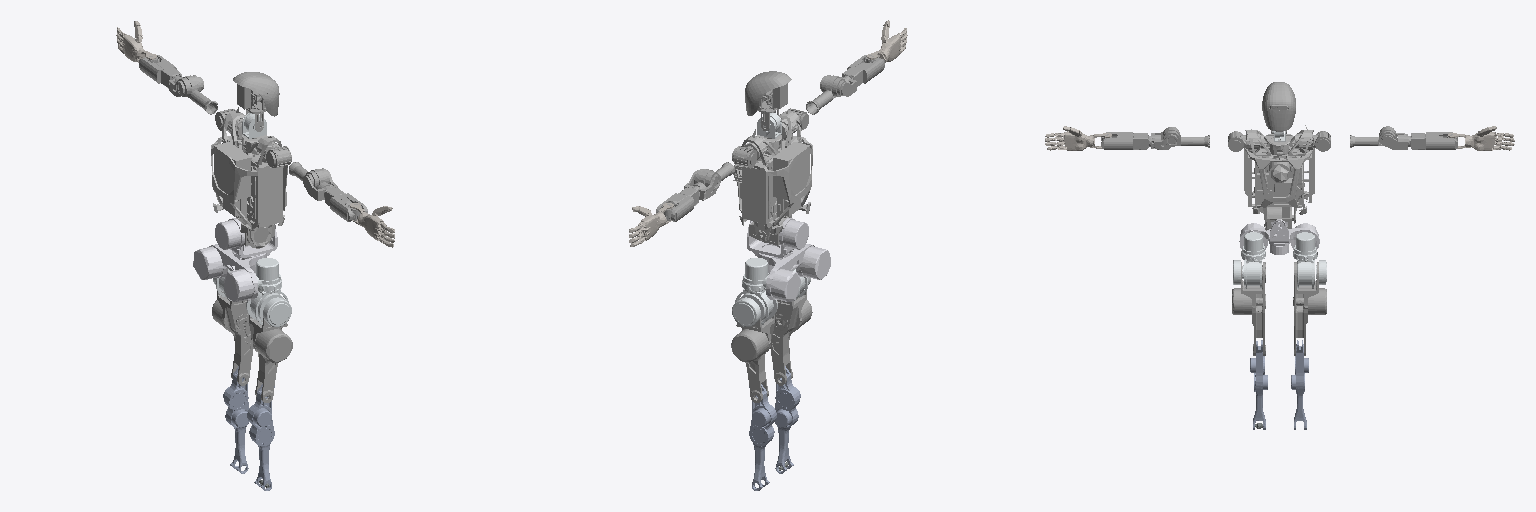
--- Facts derived from the render (not from the file) ---
The picture shows the robot from 3 angles, left to right: view 1: azimuth 30°, elevation 25°; view 2: azimuth 150°, elevation 25°; view 3: azimuth 270°, elevation 25°; orthographic projection.
Model OpenLoog with 32 links and 31 joints (29 revolute, 2 fixed), rooted at base_link, posed every joint at zero.
Links seen in each view (by area): view 1: base_link, Link_waist_yaw, leg_r3_link, leg_l3_link, Link_head_pitch, leg_r4_link, leg_l4_link, leg_r2_link, Link_waist_roll, Link_arm_r_07, leg_r1_link, Link_arm_l_07 (+3 smaller); view 2: base_link, Link_waist_yaw, leg_l3_link, leg_r3_link, Link_head_pitch, leg_l4_link, leg_r4_link, Link_waist_roll, leg_l2_link, Link_arm_l_07, Link_arm_r_07, leg_l1_link (+3 smaller); view 3: base_link, leg_r3_link, leg_l3_link, Link_head_pitch, Link_waist_yaw, Link_arm_r_07, Link_arm_l_07, leg_r4_link, leg_l4_link, Link_arm_l_05, Link_arm_r_05, leg_r2_link (+3 smaller).
Link boxes in pixels (<box>): base_link: <box>211,107,287,247</box>; Link_waist_yaw: <box>193,244,270,301</box>; leg_r3_link: <box>249,315,292,402</box>; leg_l3_link: <box>212,291,253,385</box>; Link_head_pitch: <box>233,72,279,131</box>; leg_r4_link: <box>247,384,274,490</box>; leg_l4_link: <box>223,366,250,473</box>; leg_r2_link: <box>246,289,291,326</box>; Link_waist_roll: <box>215,218,277,257</box>; Link_arm_r_07: <box>350,203,394,247</box>; leg_r1_link: <box>256,258,281,292</box>; Link_arm_l_07: <box>116,21,156,62</box>; base_link: <box>733,111,812,240</box>; Link_waist_yaw: <box>752,244,830,301</box>; leg_l3_link: <box>731,315,774,402</box>; leg_r3_link: <box>770,288,812,385</box>; Link_head_pitch: <box>745,71,791,130</box>; leg_l4_link: <box>749,384,776,490</box>; leg_r4_link: <box>773,366,800,473</box>; Link_waist_roll: <box>747,218,808,257</box>; leg_l2_link: <box>732,289,777,326</box>; Link_arm_l_07: <box>629,203,673,246</box>; Link_arm_r_07: <box>867,20,907,62</box>; leg_l1_link: <box>742,258,768,292</box>; base_link: <box>1244,125,1314,226</box>; leg_r3_link: <box>1232,262,1265,355</box>; leg_l3_link: <box>1293,262,1326,355</box>; Link_head_pitch: <box>1262,82,1295,133</box>; Link_waist_yaw: <box>1239,223,1319,254</box>; Link_arm_r_07: <box>1045,126,1111,150</box>; Link_arm_l_07: <box>1448,126,1514,150</box>; leg_r4_link: <box>1250,340,1267,429</box>; leg_l4_link: <box>1291,340,1308,429</box>; Link_arm_l_05: <box>1410,132,1457,149</box>; Link_arm_r_05: <box>1101,132,1148,149</box>; leg_r2_link: <box>1233,260,1261,288</box>.
Bounding box of the posed robot: 0.3295 × 2.19 × 1.77 m (x, y, z).
27 mesh visuals loaded from 32 distinct referenced files (27 binary STL); not drawn: 5 (reference not matched to a file when rendering).

URDF robot description (OpenLoog):
<?xml version="1.0" encoding="utf-8"?>
<!-- This URDF was automatically created by SolidWorks to URDF Exporter! Originally created by Stephen Brawner ([email redacted]) 
     Commit Version: 1.6.0-4-g7f85cfe  Build Version: 1.6.7995.38578
     For more information, please see http://wiki.ros.org/sw_urdf_exporter -->
<robot
  name="OpenLoog">
  <mujoco>
    <compiler
    	meshdir="../meshes/"
    	balanceinertia="true"
    	discardvisual="false" />
  </mujoco>
  <link
    name="base_link">
    <inertial>
      <origin
        xyz="-0.0056641 -0.0013367 0.23829"
        rpy="0 0 0" />
      <mass
        value="22.447" />
      <inertia
        ixx="0.3742"
        ixy="0"
        ixz="0"
        iyy="0.27691"
        iyz="0"
        izz="0.22104" />
    </inertial>
    <visual>
      <origin
        xyz="0 0 0"
        rpy="0 0 0" />
      <geometry>
        <mesh
          filename="../base_link.STL" />
      </geometry>
      <material
        name="">
        <color
          rgba="0.75294 0.75294 0.75294 1" />
      </material>
    </visual>
    <collision>
      <origin
        xyz="0 0 0"
        rpy="0 0 0" />
      <geometry>
        <mesh
          filename="../base_link.STL" />
      </geometry>
    </collision>
  </link>
  <link
    name="Link_head_yaw">
    <inertial>
      <origin
        xyz="4.6974E-12 -0.0020814 0.044801"
        rpy="0 0 0" />
      <mass
        value="0.84249" />
      <inertia
        ixx="0.000629"
        ixy="-1.2848E-14"
        ixz="1.5461E-10"
        iyy="0.0007003"
        iyz="6.5E-06"
        izz="0.0005541" />
    </inertial>
    <visual>
      <origin
        xyz="0 0 0"
        rpy="0 0 0" />
      <geometry>
        <mesh
          filename="../Link_head_yaw.STL" />
      </geometry>
      <material
        name="">
        <color
          rgba="0.89804 0.91765 0.92941 1" />
      </material>
    </visual>
    <collision>
      <origin
        xyz="0 0 0"
        rpy="0 0 0" />
      <geometry>
        <mesh
          filename="../Link_head_yaw.STL" />
      </geometry>
    </collision>
  </link>
  <joint
    name="J_head_yaw"
    type="fixed">
    <origin
      xyz="0.009 0 0.4064"
      rpy="0 0 0" />
    <parent
      link="base_link" />
    <child
      link="Link_head_yaw" />
    <axis
      xyz="0 0 1" />
    <limit
      lower="-1.5708"
      upper="1.5708"
      effort="26"
      velocity="109.8" />
  </joint>
  <link
    name="Link_head_pitch">
    <inertial>
      <origin
        xyz="0.020569 0.033004 0.125"
        rpy="0 0 0" />
      <mass
        value="1.3943" />
      <inertia
        ixx="0.0060059"
        ixy="-9.4E-06"
        ixz="0.0007564"
        iyy="0.00629"
        iyz="-1.03E-05"
        izz="0.0048569" />
    </inertial>
    <visual>
      <origin
        xyz="0 0 0"
        rpy="0 0 0" />
      <geometry>
        <mesh
          filename="../Link_head_pitch.STL" />
      </geometry>
      <material
        name="">
        <color
          rgba="0.69804 0.69804 0.69804 1" />
      </material>
    </visual>
    <collision>
      <origin
        xyz="0 0 0"
        rpy="0 0 0" />
      <geometry>
        <mesh
          filename="../Link_head_pitch.STL" />
      </geometry>
    </collision>
  </link>
  <joint
    name="J_head_pitch"
    type="fixed">
    <origin
      xyz="0 -0.0345999999999997 0.0484999999999999"
      rpy="0 0 0" />
    <parent
      link="Link_head_yaw" />
    <child
      link="Link_head_pitch" />
    <axis
      xyz="0 -1 0" />
    <limit
      lower="-0.7854"
      upper="0.7854"
      effort="26"
      velocity="109.8" />
  </joint>

  <link
    name="leg_l1_link">
    <inertial>
      <origin
        xyz="0.075725 -0.00093843 0.016591"
        rpy="0 0 0" />
      <mass
        value="2.4334" />
      <inertia
        ixx="0.0034464"
        ixy="-9E-07"
        ixz="-0.0001904"
        iyy="0.0042569"
        iyz="6.6E-06"
        izz="0.0039063" />
    </inertial>
    <visual>
      <origin
        xyz="0 0 0"
        rpy="0 0 0" />
      <geometry>
        <mesh
          filename="../Link_hip_l_roll.STL" />
      </geometry>
      <material
        name="">
        <color
          rgba="0.89804 0.91765 0.92941 1" />
      </material>
    </visual>
    <collision>
      <origin
        xyz="0 0 0"
        rpy="0 0 0" />
      <geometry>
        <mesh
          filename="../Link_hip_l_roll.STL" />
      </geometry>
    </collision>
  </link>
  <joint
    name="leg_l1_joint"
    type="revolute">
    <origin
      xyz="-0.0875 0.12 -0.069"
      rpy="0 0 0" />
    <parent
      link="Link_waist_yaw" />
    <child
      link="leg_l1_link" />
    <axis
      xyz="1 0 0" />
    <limit
      lower="-0.17453"
      upper="0.43633"
      effort="320"
      velocity="20.94" />
  </joint>
  <link
    name="leg_l2_link">
    <inertial>
      <origin
        xyz="-3.1716E-08 0.0071358 -0.10063"
        rpy="0 0 0" />
      <mass
        value="3.4304" />
      <inertia
        ixx="0.0077365"
        ixy="0"
        ixz="0"
        iyy="0.0080807"
        iyz="0.0001167"
        izz="0.0066409" />
    </inertial>
    <visual>
      <origin
        xyz="0 0 0"
        rpy="0 0 0" />
      <geometry>
        <mesh
          filename="../Link_hip_l_yaw.STL" />
      </geometry>
      <material
        name="">
        <color
          rgba="0.89804 0.91765 0.92941 1" />
      </material>
    </visual>
    <collision>
      <origin
        xyz="0 0 0"
        rpy="0 0 0" />
      <geometry>
        <mesh
          filename="../Link_hip_l_yaw.STL" />
      </geometry>
    </collision>
  </link>
  <joint
    name="leg_l2_joint"
    type="revolute">
    <origin
      xyz="0.08225 0 -0.01"
      rpy="0 0 0" />
    <parent
      link="leg_l1_link" />
    <child
      link="leg_l2_link" />
    <axis
      xyz="0 0 1" />
    <limit
      lower="-0.69813"
      upper="0.69813"
      effort="160"
      velocity="19.63" />
  </joint>
  <link
    name="leg_l3_link">
    <inertial>
      <origin
        xyz="0.0010856 0.05497 -0.14535"
        rpy="0 0 0" />
      <mass
        value="5.2378" />
      <inertia
        ixx="0.043457"
        ixy="0.0002479"
        ixz="0.0007626"
        iyy="0.037801"
        iyz="-0.0007431"
        izz="0.015183" />
    </inertial>
    <visual>
      <origin
        xyz="0 0 0"
        rpy="0 0 0" />
      <geometry>
        <mesh
          filename="../Link_hip_l_pitch.STL" />
      </geometry>
      <material
        name="">
        <color
          rgba="0.69804 0.69804 0.69804 1" />
      </material>
    </visual>
    <collision>
      <origin
        xyz="0 0 0"
        rpy="0 0 0" />
      <geometry>
        <mesh
          filename="../Link_hip_l_pitch.STL" />
      </geometry>
    </collision>
  </link>
  <joint
    name="leg_l3_joint"
    type="revolute">
    <origin
      xyz="0 -0.03675 -0.1055"
      rpy="0 0 0" />
    <parent
      link="leg_l2_link" />
    <child
      link="leg_l3_link" />
    <axis
      xyz="0 -1 0" />
    <limit
      lower="-0.78540"
      upper="1.83260"
      effort="396"
      velocity="19.16" />
  </joint>
  <link
    name="leg_l4_link">
    <inertial>
      <origin
        xyz="-0.0096425 -2.8684E-06 -0.13601"
        rpy="0 0 0" />
      <mass
        value="2.9775" />
      <inertia
        ixx="0.023859"
        ixy="6.76E-05"
        ixz="0.0004656"
        iyy="0.024183"
        iyz="-0.000548"
        izz="0.0023083" />
    </inertial>
    <visual>
      <origin
        xyz="0 0 0"
        rpy="0 0 0" />
      <geometry>
        <mesh
          filename="../Link_knee_l_pitch.STL" />
      </geometry>
      <material
        name="">
        <color
          rgba="0.66667 0.69804 0.76863 1" />
      </material>
    </visual>
    <collision>
      <origin
        xyz="0 0 0"
        rpy="0 0 0" />
      <geometry>
        <mesh
          filename="../Link_knee_l_pitch.STL" />
      </geometry>
    </collision>
  </link>
  <joint
    name="leg_l4_joint"
    type="revolute">
    <origin
      xyz="0 0.01125 -0.4"
      rpy="0 0 0" />
    <parent
      link="leg_l3_link" />
    <child
      link="leg_l4_link" />
    <axis
      xyz="0 -1 0" />
    <limit
      lower="-2.35619"
      upper="0.08727"
      effort="396"
      velocity="19.16" />
  </joint>
  <link
    name="leg_l5_link">
    <inertial>
      <origin
        xyz="-6.1835E-12 1.2655E-07 6.7022E-08"
        rpy="0 0 0" />
      <mass
        value="0.10145" />
      <inertia
        ixx="2.7175E-05"
        ixy="1.0023E-14"
        ixz="8.1752E-13"
        iyy="6.1118E-06"
        iyz="2.6285E-11"
        izz="2.6565E-05" />
    </inertial>
    <visual>
      <origin
        xyz="0 0 0"
        rpy="0 0 0" />
      <geometry>
        <mesh
          filename="../Link_ankle_l_pitch.STL" />
      </geometry>
      <material
        name="">
        <color
          rgba="0.52941 0.54902 0.54902 1" />
      </material>
    </visual>
    <collision>
      <origin
        xyz="0 0 0"
        rpy="0 0 0" />
      <geometry>
        <mesh
          filename="../Link_ankle_l_pitch.STL" />
      </geometry>
    </collision>
  </link>
  <joint
    name="leg_l5_joint"
    type="revolute">
    <origin
      xyz="0 0 -0.387"
      rpy="0 0 0" />
    <parent
      link="leg_l4_link" />
    <child
      link="leg_l5_link" />
    <axis
      xyz="0 -1 0" />
    <limit
      lower="-0.47"
      upper="0.87"
      effort="58.5"
      velocity="48.8" />
  </joint>
  <link
    name="leg_l6_link">
    <inertial>
      <origin
        xyz="0.041077 -2.9318E-08 -0.043909"
        rpy="0 0 0" />
      <mass
        value="0.7522882" />
      <inertia
        ixx="0.0004393"
        ixy="0"
        ixz="0.000269"
        iyy="0.0036465"
        iyz="0"
        izz="0.0036369" />
    </inertial>
    <visual>
      <origin
        xyz="0 0 0"
        rpy="0 0 0" />
      <geometry>
        <mesh
          filename="../Link_ankle_l_roll.STL" />
      </geometry>
      <material
        name="">
        <color
          rgba="0.89804 0.91765 0.92941 1" />
      </material>
    </visual>
    <collision>
      <origin
        xyz="0 0 0"
        rpy="0 0 0" />
      <geometry>
        <mesh
          filename="../Link_ankle_l_roll.STL" />
      </geometry>
    </collision>
  </link>
  <joint
    name="leg_l6_joint"
    type="revolute">
    <origin
      xyz="0 0 0"
      rpy="0 0 0" />
    <parent
      link="leg_l5_link" />
    <child
      link="leg_l6_link" />
    <axis
      xyz="1 0 0" />
    <limit
      lower="-0.43633"
      upper="0.43633"
      effort="58.5"
      velocity="48.8" />
  </joint>

  <link
    name="leg_r1_link">
    <inertial>
      <origin
        xyz="0.075725 -0.0010616 0.016591"
        rpy="0 0 0" />
      <mass
        value="2.4334" />
      <inertia
        ixx="0.0036961"
        ixy="9E-07"
        ixz="-0.0001644"
        iyy="0.0045067"
        iyz="-6.3E-06"
        izz="0.0039063" />
    </inertial>
    <visual>
      <origin
        xyz="0 0 0"
        rpy="0 0 0" />
      <geometry>
        <mesh
          filename="../Link_hip_r_roll.STL" />
      </geometry>
      <material
        name="">
        <color
          rgba="0.89804 0.91765 0.92941 1" />
      </material>
    </visual>
    <collision>
      <origin
        xyz="0 0 0"
        rpy="0 0 0" />
      <geometry>
        <mesh
          filename="../Link_hip_r_roll.STL" />
      </geometry>
    </collision>
  </link>
  <joint
    name="leg_r1_joint"
    type="revolute">
    <origin
      xyz="-0.0875 -0.12 -0.069"
      rpy="0 0 0" />
    <parent
      link="Link_waist_yaw" />
    <child
      link="leg_r1_link" />
    <axis
      xyz="1 0 0" />
    <limit
      lower="-0.17453"
      upper="0.43633"
      effort="320"
      velocity="20.94" />
  </joint>
  <link
    name="leg_r2_link">
    <inertial>
      <origin
        xyz="-3.0911E-08 -0.0071356 -0.10063"
        rpy="0 0 0" />
      <mass
        value="3.4303" />
      <inertia
        ixx="0.0077365"
        ixy="0"
        ixz="0"
        iyy="0.0080807"
        iyz="-0.0001167"
        izz="0.006641" />
    </inertial>
    <visual>
      <origin
        xyz="0 0 0"
        rpy="0 0 0" />
      <geometry>
        <mesh
          filename="../Link_hip_r_yaw.STL" />
      </geometry>
      <material
        name="">
        <color
          rgba="0.89804 0.91765 0.92941 1" />
      </material>
    </visual>
    <collision>
      <origin
        xyz="0 0 0"
        rpy="0 0 0" />
      <geometry>
        <mesh
          filename="../Link_hip_r_yaw.STL" />
      </geometry>
    </collision>
  </link>
  <joint
    name="leg_r2_joint"
    type="revolute">
    <origin
      xyz="0.08225 0 -0.01"
      rpy="0 0 0" />
    <parent
      link="leg_r1_link" />
    <child
      link="leg_r2_link" />
    <axis
      xyz="0 0 1" />
    <limit
      lower="-0.69813"
      upper="0.69813"
      effort="160"
      velocity="19.63" />
  </joint>
  <link
    name="leg_r3_link">
    <inertial>
      <origin
        xyz="0.0010856 -0.05497 -0.14535"
        rpy="0 0 0" />
      <mass
        value="5.2378" />
      <inertia
        ixx="0.043457"
        ixy="-0.0002478"
        ixz="0.0007626"
        iyy="0.037801"
        iyz="0.0007431"
        izz="0.015183" />
    </inertial>
    <visual>
      <origin
        xyz="0 0 0"
        rpy="0 0 0" />
      <geometry>
        <mesh
          filename="../Link_hip_r_pitch.STL" />
      </geometry>
      <material
        name="">
        <color
          rgba="0.69804 0.69804 0.69804 1" />
      </material>
    </visual>
    <collision>
      <origin
        xyz="0 0 0"
        rpy="0 0 0" />
      <geometry>
        <mesh
          filename="../Link_hip_r_pitch.STL" />
      </geometry>
    </collision>
  </link>
  <joint
    name="leg_r3_joint"
    type="revolute">
    <origin
      xyz="0 0.03675 -0.1055"
      rpy="0 0 0" />
    <parent
      link="leg_r2_link" />
    <child
      link="leg_r3_link" />
    <axis
      xyz="0 -1 0" />
    <limit
      lower="-0.78540"
      upper="1.83260"
      effort="396"
      velocity="19.16" />
  </joint>
  <link
    name="leg_r4_link">
    <inertial>
      <origin
        xyz="-0.0096425 2.9338E-06 -0.13601"
        rpy="0 0 0" />
      <mass
        value="2.9775" />
      <inertia
        ixx="0.02386"
        ixy="-6.76E-05"
        ixz="0.0004656"
        iyy="0.024184"
        iyz="0.0005481"
        izz="0.0023083" />
    </inertial>
    <visual>
      <origin
        xyz="0 0 0"
        rpy="0 0 0" />
      <geometry>
        <mesh
          filename="../Link_knee_r_pitch.STL" />
      </geometry>
      <material
        name="">
        <color
          rgba="0.66667 0.69804 0.76863 1" />
      </material>
    </visual>
    <collision>
      <origin
        xyz="0 0 0"
        rpy="0 0 0" />
      <geometry>
        <mesh
          filename="../Link_knee_r_pitch.STL" />
      </geometry>
    </collision>
  </link>
  <joint
    name="leg_r4_joint"
    type="revolute">
    <origin
      xyz="0 -0.01125 -0.4"
      rpy="0 0 0" />
    <parent
      link="leg_r3_link" />
    <child
      link="leg_r4_link" />
    <axis
      xyz="0 -1 0" />
    <limit
      lower="-2.35619"
      upper="0.08727"
      effort="396"
      velocity="19.16" />
  </joint>
  <link
    name="leg_r5_link">
    <inertial>
      <origin
        xyz="-6.1835E-12 -1.2655E-07 -2.4682E-08"
        rpy="0 0 0" />
      <mass
        value="0.10145" />
      <inertia
        ixx="2.7175E-05"
        ixy="-1.0023E-14"
        ixz="8.1752E-13"
        iyy="6.1118E-06"
        iyz="-2.6285E-11"
        izz="2.6565E-05" />
    </inertial>
    <visual>
      <origin
        xyz="0 0 0"
        rpy="0 0 0" />
      <geometry>
        <mesh
          filename="../Link_ankle_r_pitch.STL" />
      </geometry>
      <material
        name="">
        <color
          rgba="0.52941 0.54902 0.54902 1" />
      </material>
    </visual>
    <collision>
      <origin
        xyz="0 0 0"
        rpy="0 0 0" />
      <geometry>
        <mesh
          filename="../Link_ankle_r_pitch.STL" />
      </geometry>
    </collision>
  </link>
  <joint
    name="leg_r5_joint"
    type="revolute">
    <origin
      xyz="0 0 -0.387"
      rpy="0 0 0" />
    <parent
      link="leg_r4_link" />
    <child
      link="leg_r5_link" />
    <axis
      xyz="0 -1 0" />
    <limit
      lower="-0.47"
      upper="0.87"
      effort="58.5"
      velocity="48.8" />
  </joint>
  <link
    name="leg_r6_link">
    <inertial>
      <origin
        xyz="0.041078 -8.9152E-08 -0.043909"
        rpy="0 0 0" />
      <mass
        value="0.75229" />
      <inertia
        ixx="0.0004393"
        ixy="0"
        ixz="0.000269"
        iyy="0.0036465"
        iyz="0"
        izz="0.0036369" />
    </inertial>
    <visual>
      <origin
        xyz="0 0 0"
        rpy="0 0 0" />
      <geometry>
        <mesh
          filename="../Link_ankle_r_roll.STL" />
      </geometry>
      <material
        name="">
        <color
          rgba="0.89804 0.91765 0.92941 1" />
      </material>
    </visual>
    <collision>
      <origin
        xyz="0 0 0"
        rpy="0 0 0" />
      <geometry>
        <mesh
          filename="../Link_ankle_r_roll.STL" />
      </geometry>
    </collision>
  </link>
  <joint
    name="leg_r6_joint"
    type="revolute">
    <origin
      xyz="0 0 0"
      rpy="0 0 0" />
    <parent
      link="leg_r5_link" />
    <child
      link="leg_r6_link" />
    <axis
      xyz="1 0 0" />
    <limit
      lower="-0.43633"
      upper="0.43633"
      effort="58.5"
      velocity="48.8" />
  </joint>

  <link
    name="Link_arm_l_01">
    <inertial>
      <origin
        xyz="-0.00449464987882542 0.0382942125981936 -1.874402432607E-06"
        rpy="0 0 0" />
      <mass
        value="0.756406339732892" />
      <inertia
        ixx="0.000587115683146372"
        ixy="2.98026052651538E-07"
        ixz="-5.83781087215966E-09"
        iyy="0.000803052813361661"
        iyz="3.66476835396106E-08"
        izz="0.000842985653484675" />
    </inertial>
    <visual>
      <origin
        xyz="0 0 0"
        rpy="0 0 0" />
      <geometry>
        <mesh
          filename="../Link_arm_l_01.STL" />
      </geometry>
      <material
        name="">
        <color
          rgba="0.698039215686274 0.698039215686274 0.698039215686274 1" />
      </material>
    </visual>
    <collision>
      <origin
        xyz="0 0 0"
        rpy="0 0 0" />
      <geometry>
        <mesh
          filename="../Link_arm_l_01.STL" />
      </geometry>
    </collision>
  </link>
  <joint
    name="uidx_left_arm_joint1"
    type="revolute">
    <origin
      xyz="0.004 0.1616 0.3922"
      rpy="0 0 0" />
    <parent
      link="base_link" />
    <child
      link="Link_arm_l_01" />
    <axis
      xyz="0 1 0" />
    <limit
      lower="-2.96706"
      upper="2.96706"
      effort="80"
      velocity="3.14" />
  </joint>
  <link
    name="Link_arm_l_02">
    <inertial>
      <origin
        xyz="-0.042 0.0674307499121858 1.38777878078145E-17"
        rpy="0 0 0" />
      <mass
        value="0.984999996273518" />
      <inertia
        ixx="0.0017309882399251"
        ixy="-1.48322871384691E-19"
        ixz="-1.94588987195478E-19"
        iyy="0.00115401958000568"
        iyz="-6.15989345249147E-19"
        izz="0.00226269324370836" />
    </inertial>
    <visual>
      <origin
        xyz="0 0 0"
        rpy="0 0 0" />
      <geometry>
        <mesh
          filename="../Link_arm_l_02.STL" />
      </geometry>
      <material
        name="">
        <color
          rgba="0.698039215686274 0.698039215686274 0.698039215686274 1" />
      </material>
    </visual>
    <collision>
      <origin
        xyz="0 0 0"
        rpy="0 0 0" />
      <geometry>
        <mesh
          filename="../Link_arm_l_02.STL" />
      </geometry>
    </collision>
  </link>
  <joint
    name="uidx_left_arm_joint2"
    type="revolute">
    <origin
      xyz="0.042 0.041 0"
      rpy="0 0 0" />
    <parent
      link="Link_arm_l_01" />
    <child
      link="Link_arm_l_02" />
    <axis
      xyz="1 0 0" />
    <limit
      lower="-1.83260"
      upper="1.83260"
      effort="80"
      velocity="3.14" />
  </joint>
  <link
    name="Link_arm_l_03">
    <inertial>
      <origin
        xyz="0.00141357502419956 0.164662742175383 0.0207578924800774"
        rpy="0 0 0" />
      <mass
        value="0.958999855228925" />
      <inertia
        ixx="0.00206438134078715"
        ixy="1.82014067823508E-05"
        ixz="5.12831369639908E-06"
        iyy="0.000805354129266641"
        iyz="0.000255265992194607"
        izz="0.00205099914609259" />
    </inertial>
    <visual>
      <origin
        xyz="0 0 0"
        rpy="0 0 0" />
      <geometry>
        <mesh
          filename="../Link_arm_l_03.STL" />
      </geometry>
      <material
        name="">
        <color
          rgba="0.698039215686274 0.698039215686274 0.698039215686274 1" />
      </material>
    </visual>
    <collision>
      <origin
        xyz="0 0 0"
        rpy="0 0 0" />
      <geometry>
        <mesh
          filename="../Link_arm_l_03.STL" />
      </geometry>
    </collision>
  </link>
  <joint
    name="uidx_left_arm_joint3"
    type="revolute">
    <origin
      xyz="-0.042 0.1226 0"
      rpy="0 0 0" />
    <parent
      link="Link_arm_l_02" />
    <child
      link="Link_arm_l_03" />
    <axis
      xyz="0 1 0" />
    <limit
      lower="-2.96706"
      upper="2.96706"
      effort="48"
      velocity="3.14" />
  </joint>
  <link
    name="Link_arm_l_04">
    <inertial>
      <origin
        xyz="0.038726985904266 0.0607672244593032 -0.0210032450980798"
        rpy="0 0 0" />
      <mass
        value="0.60000012303258" />
      <inertia
        ixx="0.000703976141425558"
        ixy="-2.02301178076816E-05"
        ixz="1.12633779930363E-05"
        iyy="0.000680850033983237"
        iyz="-0.000105852227353173"
        izz="0.00106526266740194" />
    </inertial>
    <visual>
      <origin
        xyz="0 0 0"
        rpy="0 0 0" />
      <geometry>
        <mesh
          filename="../Link_arm_l_04.STL" />
      </geometry>
      <material
        name="">
        <color
          rgba="0.698039215686274 0.698039215686274 0.698039215686274 1" />
      </material>
    </visual>
    <collision>
      <origin
        xyz="0 0 0"
        rpy="0 0 0" />
      <geometry>
        <mesh
          filename="../Link_arm_l_04.STL" />
      </geometry>
    </collision>
  </link>
  <joint
    name="uidx_left_arm_joint4"
    type="revolute">
    <origin
      xyz="-0.0353 0.1774 0.024"
      rpy="0 0 0" />
    <parent
      link="Link_arm_l_03" />
    <child
      link="Link_arm_l_04" />
    <axis
      xyz="1 0 0" />
    <limit
      lower="0"
      upper="2.96706"
      effort="48"
      velocity="3.14" />
  </joint>
  <link
    name="Link_arm_l_05">
    <inertial>
      <origin
        xyz="-3.2712E-05 0.068658 -0.00011178"
        rpy="0 0 0" />
      <mass
        value="0.68976" />
      <inertia
        ixx="0.0025225"
        ixy="4E-07"
        ixz="8E-07"
        iyy="0.0004487"
        iyz="3.1E-06"
        izz="0.0024111" />
    </inertial>
    <visual>
      <origin
        xyz="0 0 0"
        rpy="0 0 0" />
      <geometry>
        <mesh
          filename="../Link_arm_l_05.STL" />
      </geometry>
      <material
        name="">
        <color
          rgba="0.69804 0.69804 0.69804 1" />
      </material>
    </visual>
    <collision>
      <origin
        xyz="0 0 0"
        rpy="0 0 0" />
      <geometry>
        <mesh
          filename="../Link_arm_l_05.STL" />
      </geometry>
    </collision>
  </link>
  <joint
    name="uidx_left_arm_joint5"
    type="revolute">
    <origin
      xyz="0.0353 0.1035 -0.024"
      rpy="0 0 0" />
    <parent
      link="Link_arm_l_04" />
    <child
      link="Link_arm_l_05" />
    <axis
      xyz="0 1 0" />
    <limit
      lower="-2.96706"
      upper="2.96706"
      effort="12.4"
      velocity="6.28" />
  </joint>
  <link
    name="Link_arm_l_06">
    <inertial>
      <origin
        xyz="-0.0260776548825596 8.95877202866657E-07 0.00166373234012217"
        rpy="0 0 0" />
      <mass
        value="0.280000012776158" />
      <inertia
        ixx="0.000145596926990102"
        ixy="7.70263046256849E-10"
        ixz="-2.14557176368931E-07"
        iyy="0.000156926535065694"
        iyz="-2.41022657678511E-09"
        izz="0.000104981940665913" />
    </inertial>
    <visual>
      <origin
        xyz="0 0 0"
        rpy="0 0 0" />
      <geometry>
        <mesh
          filename="../Link_arm_l_06.STL" />
      </geometry>
      <material
        name="">
        <color
          rgba="0.698039215686274 0.698039215686274 0.698039215686274 1" />
      </material>
    </visual>
    <collision>
      <origin
        xyz="0 0 0"
        rpy="0 0 0" />
      <geometry>
        <mesh
          filename="../Link_arm_l_06.STL" />
      </geometry>
    </collision>
  </link>
  <joint
    name="uidx_left_arm_joint6"
    type="revolute">
    <origin
      xyz="0.0265 0.1965 0"
      rpy="0 0 0" />
    <parent
      link="Link_arm_l_05" />
    <child
      link="Link_arm_l_06" />
    <axis
      xyz="-1 0 0" />
    <limit
      lower="-1.8326"
      upper="1.8326"
      effort="12.4"
      velocity="6.28" />
  </joint>
  <link
    name="Link_arm_l_07">
    <inertial>
      <origin
        xyz="-0.0077872 0.15705 -0.027733"
        rpy="0 0 0" />
      <mass
        value="0.61354" />
      <inertia
        ixx="0.0025964"
        ixy="4.66E-05"
        ixz="0.0001089"
        iyy="0.0007306"
        iyz="-1.47E-05"
        izz="0.00301" />
    </inertial>
    <visual>
      <origin
        xyz="0 0 0"
        rpy="0 0 0" />
      <geometry>
        <mesh
          filename="../Link_arm_l_07.STL" />
      </geometry>
      <material
        name="">
        <color
          rgba="0.77647 0.75686 0.73725 1" />
      </material>
    </visual>
    <collision>
      <origin
        xyz="0 0 0"
        rpy="0 0 0" />
      <geometry>
        <mesh
          filename="../Link_arm_l_07.STL" />
      </geometry>
    </collision>
  </link>
  <joint
    name="uidx_left_arm_joint7"
    type="revolute">
    <origin
      xyz="-0.0265 0 0.0318"
      rpy="0 0 0" />
    <parent
      link="Link_arm_l_06" />
    <child
      link="Link_arm_l_07" />
    <axis
      xyz="0 0 1" />
    <limit
      lower="-1.04720"
      upper="1.04720"
      effort="12.4"
      velocity="6.28" />
  </joint>
  <link
    name="Link_waist_pitch">
    <inertial>
      <origin
        xyz="-0.00073496 0.049925 -2.9695E-05"
        rpy="0 0 0" />
      <mass
        value="2.6964" />
      <inertia
        ixx="0.0051971"
        ixy="4.37E-05"
        ixz="-3E-07"
        iyy="0.0047413"
        iyz="-6E-06"
        izz="0.0061906" />
    </inertial>
    <visual>
      <origin
        xyz="0 0 0"
        rpy="0 0 0" />
      <geometry>
        <mesh
          filename="../Link_waist_pitch.STL" />
      </geometry>
      <material
        name="">
        <color
          rgba="0.69804 0.69804 0.69804 1" />
      </material>
    </visual>
    <collision>
      <origin
        xyz="0 0 0"
        rpy="0 0 0" />
      <geometry>
        <mesh
          filename="../Link_waist_pitch.STL" />
      </geometry>
    </collision>
  </link>
  <joint
    name="uidx_waist_joint_pitch"
    type="revolute">
    <origin
      xyz="0 -0.0655 0"
      rpy="0 0 0" />
    <parent
      link="base_link" />
    <child
      link="Link_waist_pitch" />
    <axis
      xyz="0 -1 0" />
    <limit
      lower="-0.29671"
      upper="0.78540"
      effort="315"
      velocity="3.72" />
  </joint>
  <link
    name="Link_waist_roll">
    <inertial>
      <origin
        xyz="-0.0037424 -0.001 -0.016856"
        rpy="0 0 0" />
      <mass
        value="2.9806" />
      <inertia
        ixx="0.0071327"
        ixy="0"
        ixz="0.00358"
        iyy="0.018825"
        iyz="0"
        izz="0.016056" />
    </inertial>
    <visual>
      <origin
        xyz="0 0 0"
        rpy="0 0 0" />
      <geometry>
        <mesh
          filename="../Link_waist_roll.STL" />
      </geometry>
      <material
        name="">
        <color
          rgba="0.8902 0.8902 0.91373 1" />
      </material>
    </visual>
    <collision>
      <origin
        xyz="0 0 0"
        rpy="0 0 0" />
      <geometry>
        <mesh
          filename="../Link_waist_roll.STL" />
      </geometry>
    </collision>
  </link>
  <joint
    name="uidx_waist_joint_roll"
    type="revolute">
    <origin
      xyz="-0.064 0.0655 0"
      rpy="0 0 0" />
    <parent
      link="Link_waist_pitch" />
    <child
      link="Link_waist_roll" />
    <axis
      xyz="1 0 0" />
    <limit
      lower="-0.69813"
      upper="0.69813"
      effort="315"
      velocity="3.72" />
  </joint>
  <link
    name="Link_waist_yaw">
    <inertial>
      <origin
        xyz="-0.096172 -0.001 -0.057836"
        rpy="0 0 0" />
      <mass
        value="7.3588" />
      <inertia
        ixx="0.091635"
        ixy="0"
        ixz="-0.0058036"
        iyy="0.032766"
        iyz="0"
        izz="0.10764" />
    </inertial>
    <visual>
      <origin
        xyz="0 0 0"
        rpy="0 0 0" />
      <geometry>
        <mesh
          filename="../Link_waist_yaw.STL" />
      </geometry>
      <material
        name="">
        <color
          rgba="0.8902 0.8902 0.91373 1" />
      </material>
    </visual>
    <collision>
      <origin
        xyz="0 0 0"
        rpy="0 0 0" />
      <geometry>
        <mesh
          filename="../Link_waist_yaw.STL" />
      </geometry>
    </collision>
  </link>
  <joint
    name="uidx_waist_joint_yaw"
    type="revolute">
    <origin
      xyz="0.0675 0 -0.098"
      rpy="0 0 0" />
    <parent
      link="Link_waist_roll" />
    <child
      link="Link_waist_yaw" />
    <axis
      xyz="0 0 1" />
    <limit
      lower="-0.78540"
      upper="0.78540"
      effort="121"
      velocity="5.92" />
  </joint>


  <link
    name="Link_arm_r_01">
    <inertial>
      <origin
        xyz="0.0044946 -0.038294 -1.8744E-06"
        rpy="0 0 0" />
      <mass
        value="0.75641" />
      <inertia
        ixx="0.00058712"
        ixy="2.9803E-07"
        ixz="5.8378E-09"
        iyy="0.00080305"
        iyz="-3.6648E-08"
        izz="0.00084299" />
    </inertial>
    <visual>
      <origin
        xyz="0 0 0"
        rpy="0 0 0" />
      <geometry>
        <mesh
          filename="../Link_arm_r_01.STL" />
      </geometry>
      <material
        name="">
        <color
          rgba="0.69804 0.69804 0.69804 1" />
      </material>
    </visual>
    <collision>
      <origin
        xyz="0 0 0"
        rpy="0 0 0" />
      <geometry>
        <mesh
          filename="../Link_arm_r_01.STL" />
      </geometry>
    </collision>
  </link>
  <joint
    name="uidx_right_arm_joint1"
    type="revolute">
    <origin
      xyz="0.004 -0.1616 0.3922"
      rpy="0 0 0" />
    <parent
      link="base_link" />
    <child
      link="Link_arm_r_01" />
    <axis
      xyz="0 -1 0" />
    <limit
      lower="-2.96706"
      upper="2.96706"
      effort="80"
      velocity="3.14" />
  </joint>
  <link
    name="Link_arm_r_02">
    <inertial>
      <origin
        xyz="0.042 -0.0674307499121858 -6.93889390390723E-18"
        rpy="0 0 0" />
      <mass
        value="0.984999996273518" />
      <inertia
        ixx="0.0017309882399251"
        ixy="-9.79515256436727E-20"
        ixz="-3.63988309726277E-19"
        iyy="0.00115401958000568"
        iyz="4.42134220053852E-19"
        izz="0.00226269324370836" />
    </inertial>
    <visual>
      <origin
        xyz="0 0 0"
        rpy="0 0 0" />
      <geometry>
        <mesh
          filename="../Link_arm_r_02.STL" />
      </geometry>
      <material
        name="">
        <color
          rgba="0.698039215686274 0.698039215686274 0.698039215686274 1" />
      </material>
    </visual>
    <collision>
      <origin
        xyz="0 0 0"
        rpy="0 0 0" />
      <geometry>
        <mesh
          filename="../Link_arm_r_02.STL" />
      </geometry>
    </collision>
  </link>
  <joint
    name="uidx_right_arm_joint2"
    type="revolute">
    <origin
      xyz="-0.042 -0.041 0"
      rpy="0 0 0" />
    <parent
      link="Link_arm_r_01" />
    <child
      link="Link_arm_r_02" />
    <axis
      xyz="-1 0 0" />
    <limit
      lower="-1.83260"
      upper="1.83260"
      effort="80"
      velocity="3.14" />
  </joint>
  <link
    name="Link_arm_r_03">
    <inertial>
      <origin
        xyz="-0.00141357502419955 -0.164662742175383 0.0207578924800774"
        rpy="0 0 0" />
      <mass
        value="0.958999855228924" />
      <inertia
        ixx="0.00206438134078715"
        ixy="1.82014067823509E-05"
        ixz="-5.1283136963991E-06"
        iyy="0.00080535412926664"
        iyz="-0.000255265992194607"
        izz="0.00205099914609259" />
    </inertial>
    <visual>
      <origin
        xyz="0 0 0"
        rpy="0 0 0" />
      <geometry>
        <mesh
          filename="../Link_arm_r_03.STL" />
      </geometry>
      <material
        name="">
        <color
          rgba="0.698039215686274 0.698039215686274 0.698039215686274 1" />
      </material>
    </visual>
    <collision>
      <origin
        xyz="0 0 0"
        rpy="0 0 0" />
      <geometry>
        <mesh
          filename="../Link_arm_r_03.STL" />
      </geometry>
    </collision>
  </link>
  <joint
    name="uidx_right_arm_joint3"
    type="revolute">
    <origin
      xyz="0.042 -0.1226 0"
      rpy="0 0 0" />
    <parent
      link="Link_arm_r_02" />
    <child
      link="Link_arm_r_03" />
    <axis
      xyz="0 -1 0" />
    <limit
      lower="-2.96706"
      upper="2.96706"
      effort="48"
      velocity="3.14" />
  </joint>
  <link
    name="Link_arm_r_04">
    <inertial>
      <origin
        xyz="-0.038727 -0.060767 -0.021003"
        rpy="0 0 0" />
      <mass
        value="0.6" />
      <inertia
        ixx="0.00070398"
        ixy="-2.023E-05"
        ixz="-1.1263E-05"
        iyy="0.00068085"
        iyz="0.00010585"
        izz="0.0010653" />
    </inertial>
    <visual>
      <origin
        xyz="0 0 0"
        rpy="0 0 0" />
      <geometry>
        <mesh
          filename="../Link_arm_r_04.STL" />
      </geometry>
      <material
        name="">
        <color
          rgba="0.69804 0.69804 0.69804 1" />
      </material>
    </visual>
    <collision>
      <origin
        xyz="0 0 0"
        rpy="0 0 0" />
      <geometry>
        <mesh
          filename="../Link_arm_r_04.STL" />
      </geometry>
    </collision>
  </link>
  <joint
    name="uidx_right_arm_joint4"
    type="revolute">
    <origin
      xyz="0.0353 -0.1774 0.024"
      rpy="0 0 0" />
    <parent
      link="Link_arm_r_03" />
    <child
      link="Link_arm_r_04" />
    <axis
      xyz="-1 0 0" />
    <limit
      lower="0"
      upper="2.96706"
      effort="48"
      velocity="3.14" />
  </joint>
  <link
    name="Link_arm_r_05">
    <inertial>
      <origin
        xyz="3.2712E-05 -0.068658 -0.00011178"
        rpy="0 0 0" />
      <mass
        value="0.68976" />
      <inertia
        ixx="0.0025225"
        ixy="4E-07"
        ixz="-8E-07"
        iyy="0.0004487"
        iyz="-3.1E-06"
        izz="0.0024111" />
    </inertial>
    <visual>
      <origin
        xyz="0 0 0"
        rpy="0 0 0" />
      <geometry>
        <mesh
          filename="../Link_arm_r_05.STL" />
      </geometry>
      <material
        name="">
        <color
          rgba="0.69804 0.69804 0.69804 1" />
      </material>
    </visual>
    <collision>
      <origin
        xyz="0 0 0"
        rpy="0 0 0" />
      <geometry>
        <mesh
          filename="../Link_arm_r_05.STL" />
      </geometry>
    </collision>
  </link>
  <joint
    name="uidx_right_arm_joint5"
    type="revolute">
    <origin
      xyz="-0.0353 -0.1035 -0.024"
      rpy="0 0 0" />
    <parent
      link="Link_arm_r_04" />
    <child
      link="Link_arm_r_05" />
    <axis
      xyz="0 -1 0" />
    <limit
      lower="-2.96706"
      upper="2.96706"
      effort="12.4"
      velocity="6.28" />
  </joint>
  <link
    name="Link_arm_r_06">
    <inertial>
      <origin
        xyz="0.026078 -8.9588E-07 0.0016637"
        rpy="0 0 0" />
      <mass
        value="0.28" />
      <inertia
        ixx="0.0001456"
        ixy="7.7026E-10"
        ixz="2.1456E-07"
        iyy="0.00015693"
        iyz="2.4102E-09"
        izz="0.00010498" />
    </inertial>
    <visual>
      <origin
        xyz="0 0 0"
        rpy="0 0 0" />
      <geometry>
        <mesh
          filename="../Link_arm_r_06.STL" />
      </geometry>
      <material
        name="">
        <color
          rgba="0.69804 0.69804 0.69804 1" />
      </material>
    </visual>
    <collision>
      <origin
        xyz="0 0 0"
        rpy="0 0 0" />
      <geometry>
        <mesh
          filename="../Link_arm_r_06.STL" />
      </geometry>
    </collision>
  </link>
  <joint
    name="uidx_right_arm_joint6"
    type="revolute">
    <origin
      xyz="-0.0265 -0.1965 0"
      rpy="0 0 0" />
    <parent
      link="Link_arm_r_05" />
    <child
      link="Link_arm_r_06" />
    <axis
      xyz="1 0 0" />
    <limit
      lower="-1.8326"
      upper="1.8326"
      effort="12.4"
      velocity="6.28" />
  </joint>
  <link
    name="Link_arm_r_07">
    <inertial>
      <origin
        xyz="-0.007859 -0.15817 -0.027736"
        rpy="0 0 0" />
      <mass
        value="0.61354" />
      <inertia
        ixx="0.0025969"
        ixy="-4.65E-05"
        ixz="0.0001089"
        iyy="0.0007306"
        iyz="1.47E-05"
        izz="0.0030104" />
    </inertial>
    <visual>
      <origin
        xyz="0 0 0"
        rpy="0 0 0" />
      <geometry>
        <mesh
          filename="../Link_arm_r_07.STL" />
      </geometry>
      <material
        name="">
        <color
          rgba="0.77647 0.75686 0.73725 1" />
      </material>
    </visual>
    <collision>
      <origin
        xyz="0 0 0"
        rpy="0 0 0" />
      <geometry>
        <mesh
          filename="../Link_arm_r_07.STL" />
      </geometry>
    </collision>
  </link>
  <joint
    name="uidx_right_arm_joint7"
    type="revolute">
    <origin
      xyz="0.0265 0 0.0318"
      rpy="0 0 0" />
    <parent
      link="Link_arm_r_06" />
    <child
      link="Link_arm_r_07" />
    <axis
      xyz="0 0 1" />
    <limit
      lower="-1.04720"
      upper="1.04720"
      effort="12.4"
      velocity="6.28" />
  </joint>

</robot>
